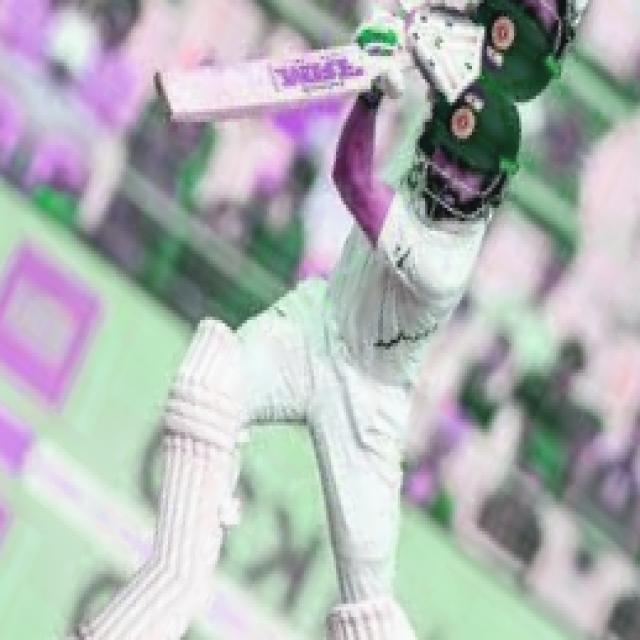toe: (150, 70, 205, 134)
